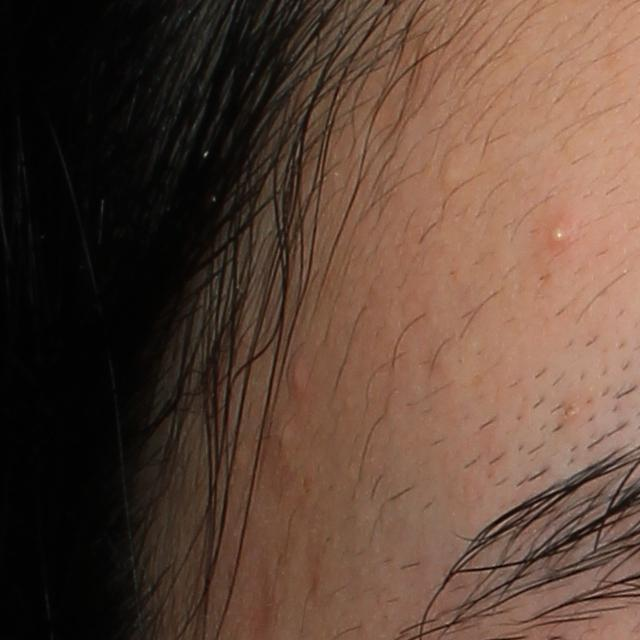comedo: (434, 157, 465, 187)
papule: (280, 356, 319, 402)
pustule: (543, 217, 573, 251)
